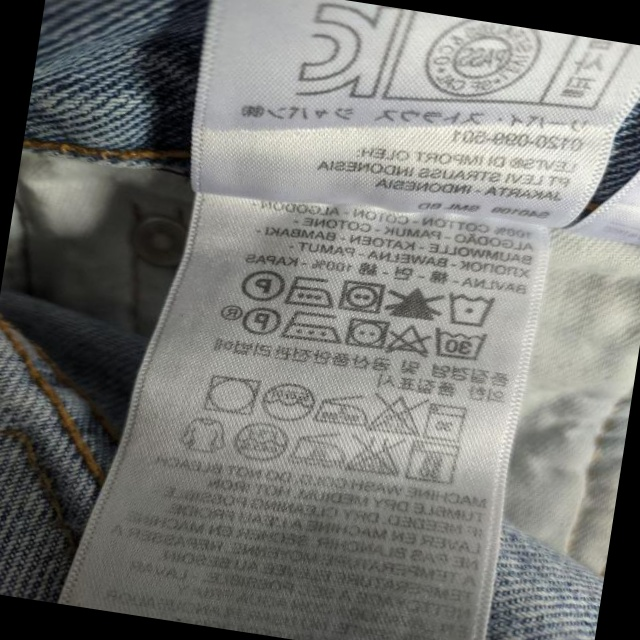30C: (404, 432, 462, 488), (420, 397, 468, 443), (445, 287, 494, 332), (430, 327, 486, 363)
DN_bleach: (365, 388, 422, 439), (389, 281, 442, 326), (388, 320, 432, 361)
dry_clean: (255, 374, 316, 430), (227, 415, 288, 464)
dry_clean_any_solvent_except_trichloroethylene: (237, 265, 284, 304), (241, 300, 282, 341)
iron: (287, 426, 348, 474)
iron_high: (281, 305, 342, 347), (281, 267, 336, 311)
iron_medium: (308, 383, 372, 431)
tumble_dry_medium: (333, 271, 388, 317), (338, 313, 391, 351)
tumble_dry_normal: (197, 366, 261, 417)
